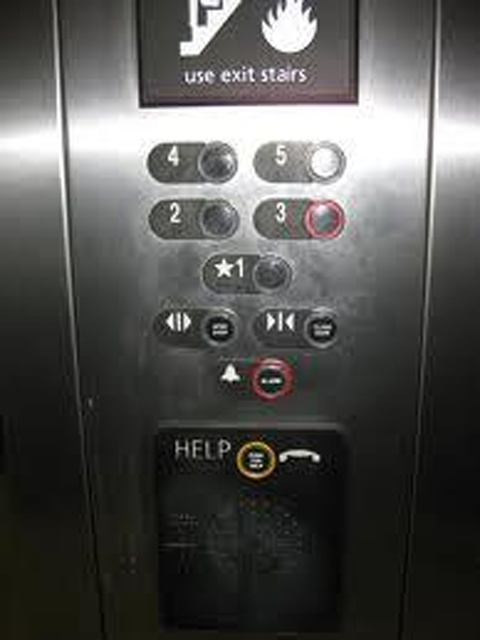2: (147, 192, 243, 240)
3: (251, 194, 347, 242)
4: (144, 138, 240, 186)
5: (252, 136, 348, 184)
alarm: (210, 353, 298, 402)
call: (234, 434, 322, 483)
close: (251, 304, 345, 351)
open: (150, 303, 244, 350)
s1: (200, 248, 296, 296)
